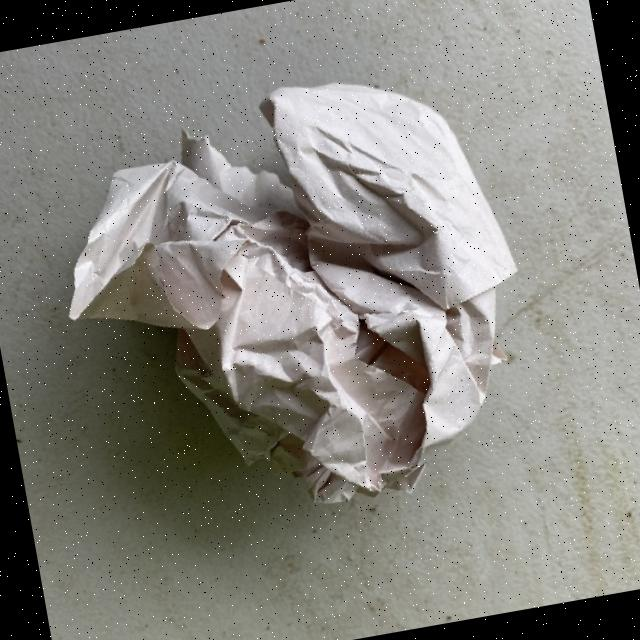paper: (34, 50, 552, 546)
